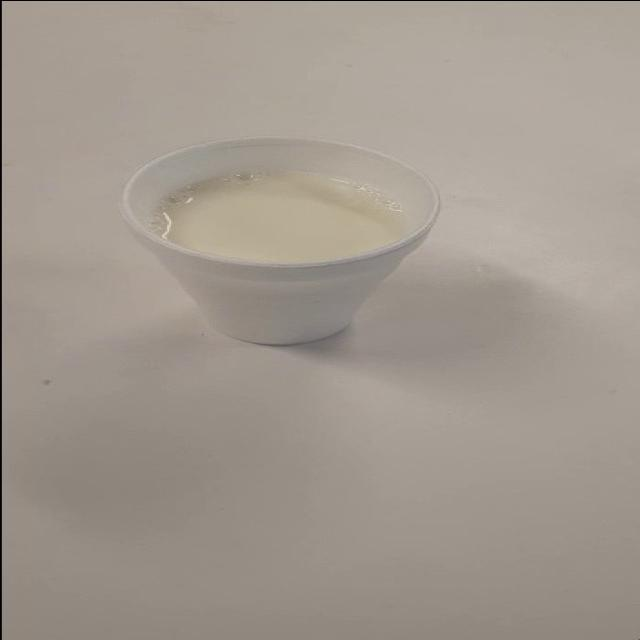Milk: (120, 120, 496, 366)
